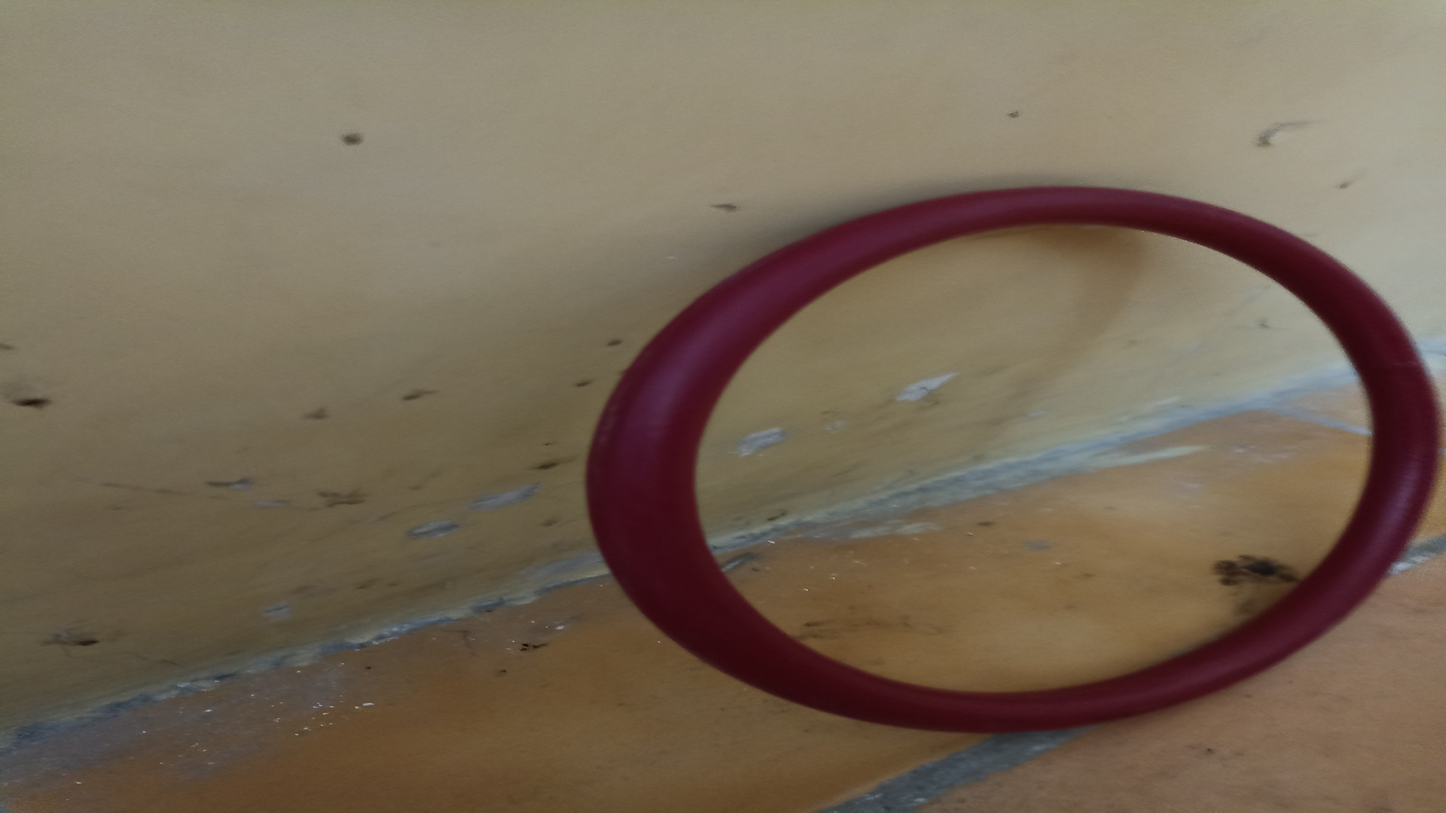Red ring: (590, 188, 1441, 728)
